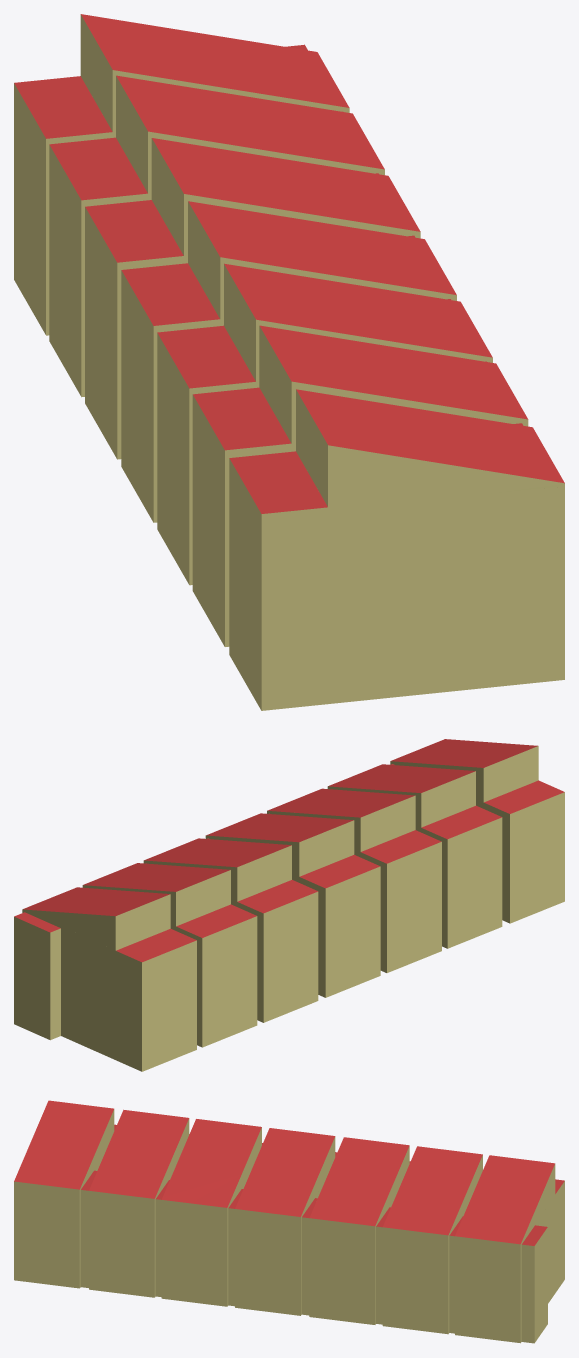
3 renders of one model, top to bottom at view 1: azimuth 30°, elevation 25°; view 2: azimuth 150°, elevation 25°; view 3: azimuth 270°, elevation 25°, orthographic. The views are drawn at different scales.
Parts seen in each view (by area): view 1: group_23, group_34, group_4, group_25, group_30, group_9, group_22, group_37, group_11, group_15, group_42, group_39 (+17 smaller); view 2: group_17, group_39, group_34, group_7, group_28, group_20, group_42, group_4, group_16, group_23, group_22, group_25 (+17 smaller); view 3: group_17, group_23, group_12, group_31, group_4, group_7, group_20, group_39, group_9, group_11, group_15, group_22 (+8 smaller).
Boxes of the visible parts, x1=… form: group_23: x1=296, y1=390, x2=564, y2=703; group_34: x1=229, y1=458, x2=327, y2=710; group_4: x1=467, y1=487, x2=558, y2=689; group_25: x1=116, y1=75, x2=384, y2=169; group_30: x1=260, y1=325, x2=528, y2=419; group_9: x1=224, y1=263, x2=492, y2=357; group_22: x1=296, y1=389, x2=564, y2=483; group_37: x1=188, y1=201, x2=456, y2=294; group_11: x1=152, y1=138, x2=420, y2=231; group_15: x1=81, y1=14, x2=349, y2=107; group_42: x1=192, y1=394, x2=291, y2=646; group_39: x1=121, y1=270, x2=456, y2=522; group_17: x1=22, y1=909, x2=196, y2=1071; group_39: x1=205, y1=835, x2=380, y2=997; group_34: x1=483, y1=792, x2=564, y2=923; group_7: x1=267, y1=811, x2=441, y2=972; group_28: x1=237, y1=891, x2=318, y2=1022; group_20: x1=82, y1=885, x2=257, y2=1047; group_42: x1=421, y1=817, x2=502, y2=948; group_4: x1=14, y1=916, x2=60, y2=1040; group_16: x1=22, y1=894, x2=170, y2=950; group_23: x1=390, y1=746, x2=538, y2=808; group_22: x1=390, y1=739, x2=537, y2=767; group_25: x1=83, y1=863, x2=230, y2=891; group_17: x1=455, y1=1181, x2=564, y2=1343; group_23: x1=14, y1=1109, x2=114, y2=1288; group_12: x1=309, y1=1146, x2=409, y2=1324; group_31: x1=89, y1=1118, x2=189, y2=1297; group_4: x1=80, y1=1190, x2=547, y2=1343; group_7: x1=161, y1=1179, x2=247, y2=1306; group_20: x1=382, y1=1211, x2=465, y2=1334; group_39: x1=235, y1=1184, x2=323, y2=1315; group_9: x1=161, y1=1119, x2=261, y2=1207; group_11: x1=309, y1=1137, x2=409, y2=1226; group_15: x1=455, y1=1155, x2=554, y2=1244; group_22: x1=14, y1=1100, x2=113, y2=1189.
Bounding box in the file's own units: 27.07 × 49.7 × 12.96.
